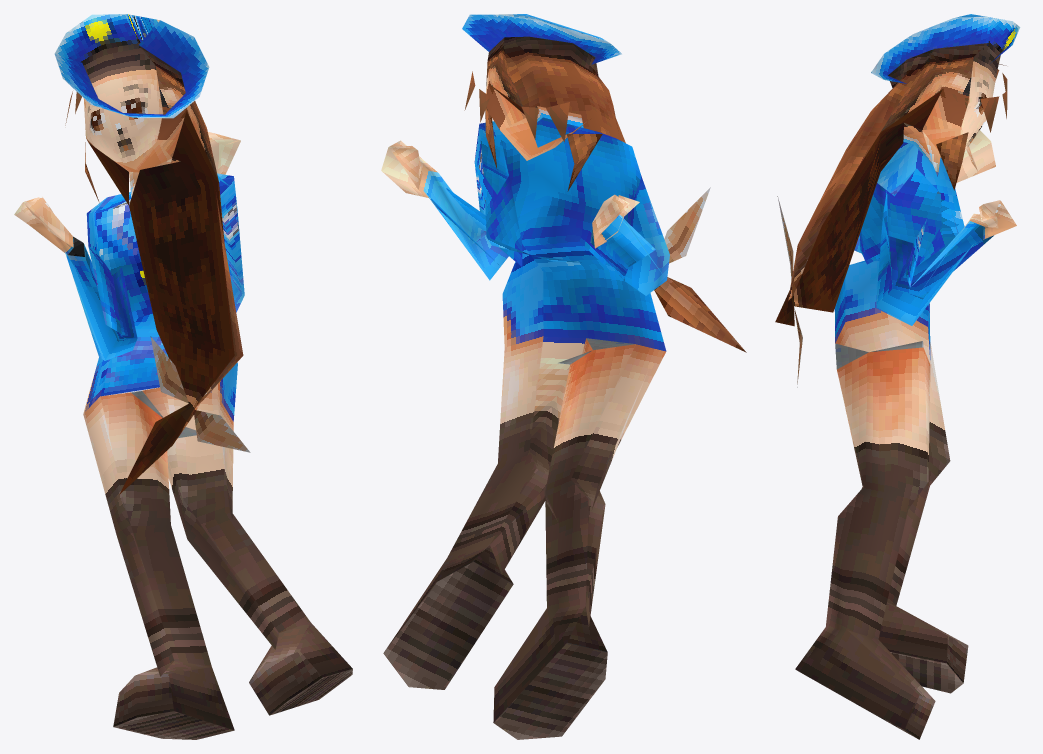
File: ps2_save-icons_hissatsupachinkostationv3shutsudouminiskirtpolice.glb
The picture shows the model from 3 angles, left to right: view 1: azimuth 30°, elevation 25°; view 2: azimuth 150°, elevation 25°; view 3: azimuth 270°, elevation 25°; orthographic projection. The views are drawn at different scales.
Visible parts, largest first — view 1: m_icon_n.ico; view 2: m_icon_n.ico; view 3: m_icon_n.ico.
Boxes of the visible parts, box(x1,y1,x2,y2) form: m_icon_n.ico: box(14, 14, 352, 739); m_icon_n.ico: box(381, 14, 746, 739); m_icon_n.ico: box(775, 14, 1020, 739).
Bounding box in the file's own units: 1.86 × 4.44 × 1.57.
1 material, 1 textured.
